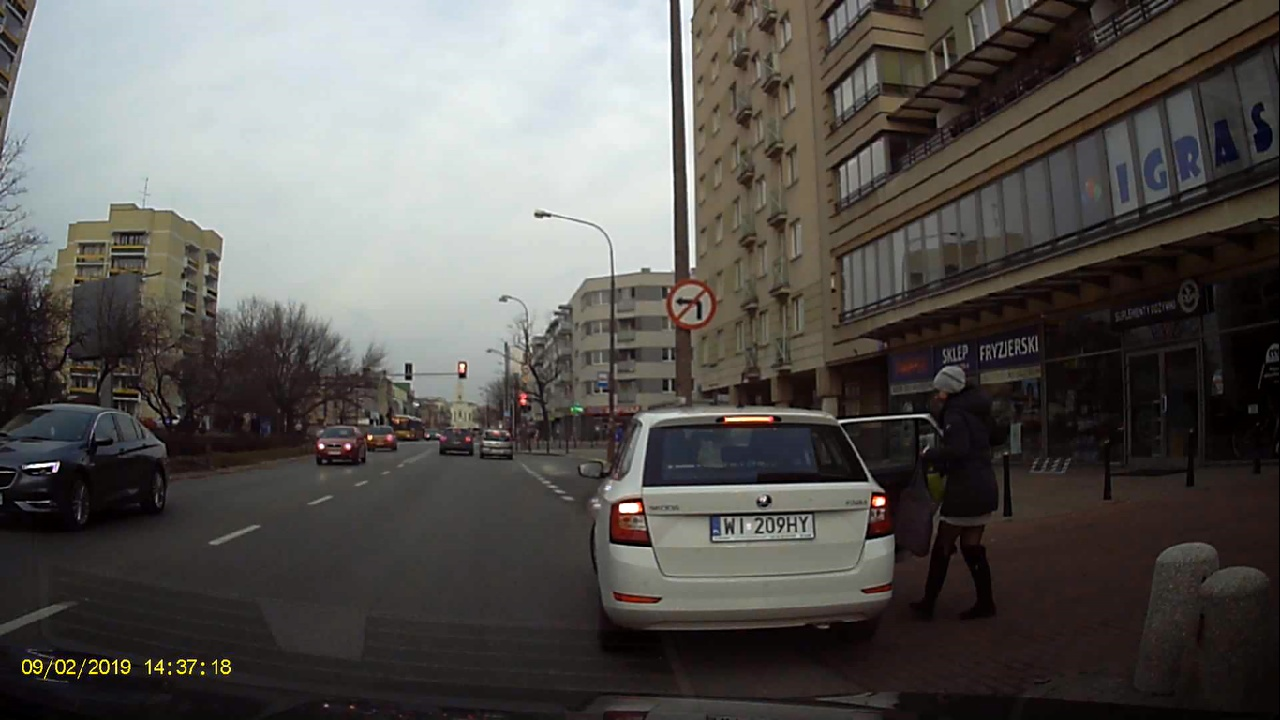B21: (657, 272, 729, 331)
